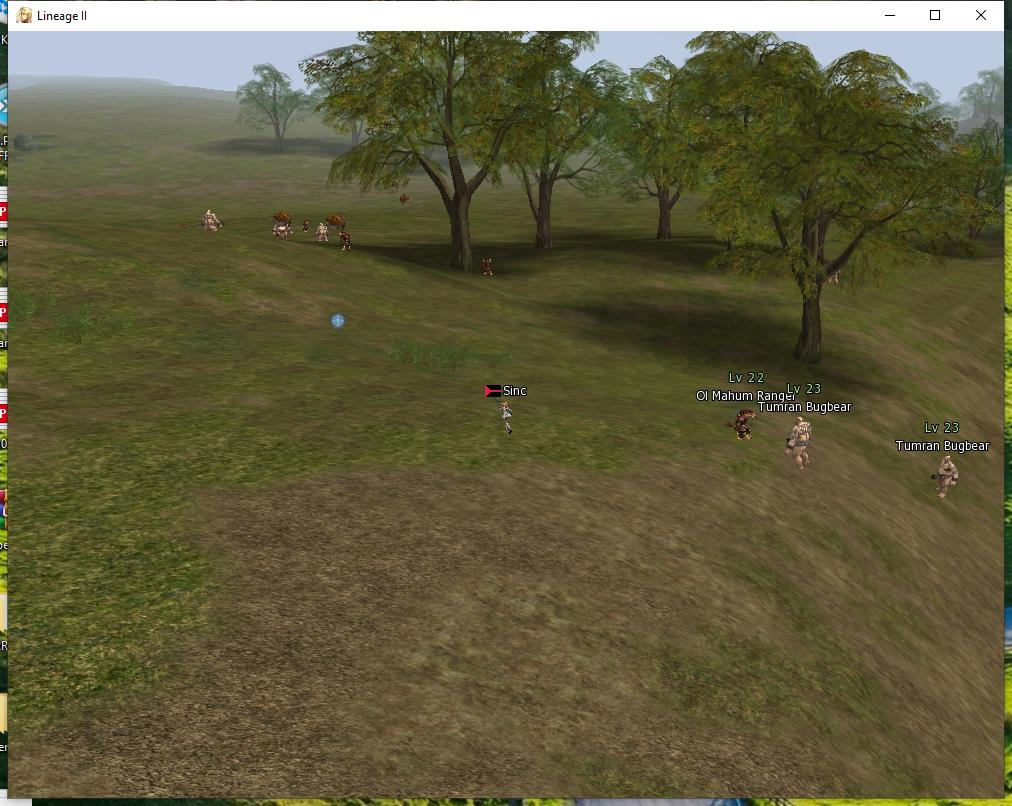monster: (894, 410, 989, 496), (768, 375, 847, 466), (705, 359, 762, 445), (264, 205, 296, 239), (197, 209, 222, 230), (479, 253, 498, 275), (324, 211, 347, 229), (341, 233, 359, 253), (316, 222, 328, 241)
